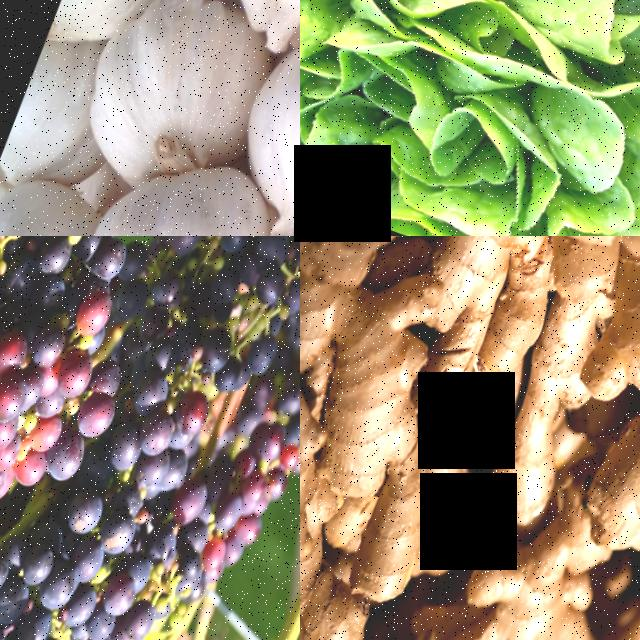garlic: (62, 0, 280, 196), (51, 147, 276, 236), (214, 13, 300, 236), (0, 158, 107, 236), (182, 0, 300, 69)
ginger: (519, 236, 640, 581), (373, 485, 640, 640), (300, 236, 465, 468), (300, 398, 432, 640)
grapes: (0, 339, 248, 640), (0, 236, 188, 538), (155, 404, 300, 629)
lettuce: (300, 0, 640, 236)
